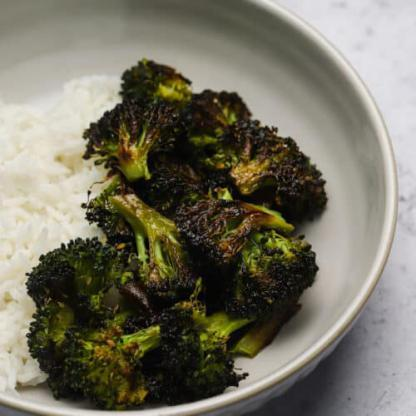broccoli: (21, 60, 330, 414)
